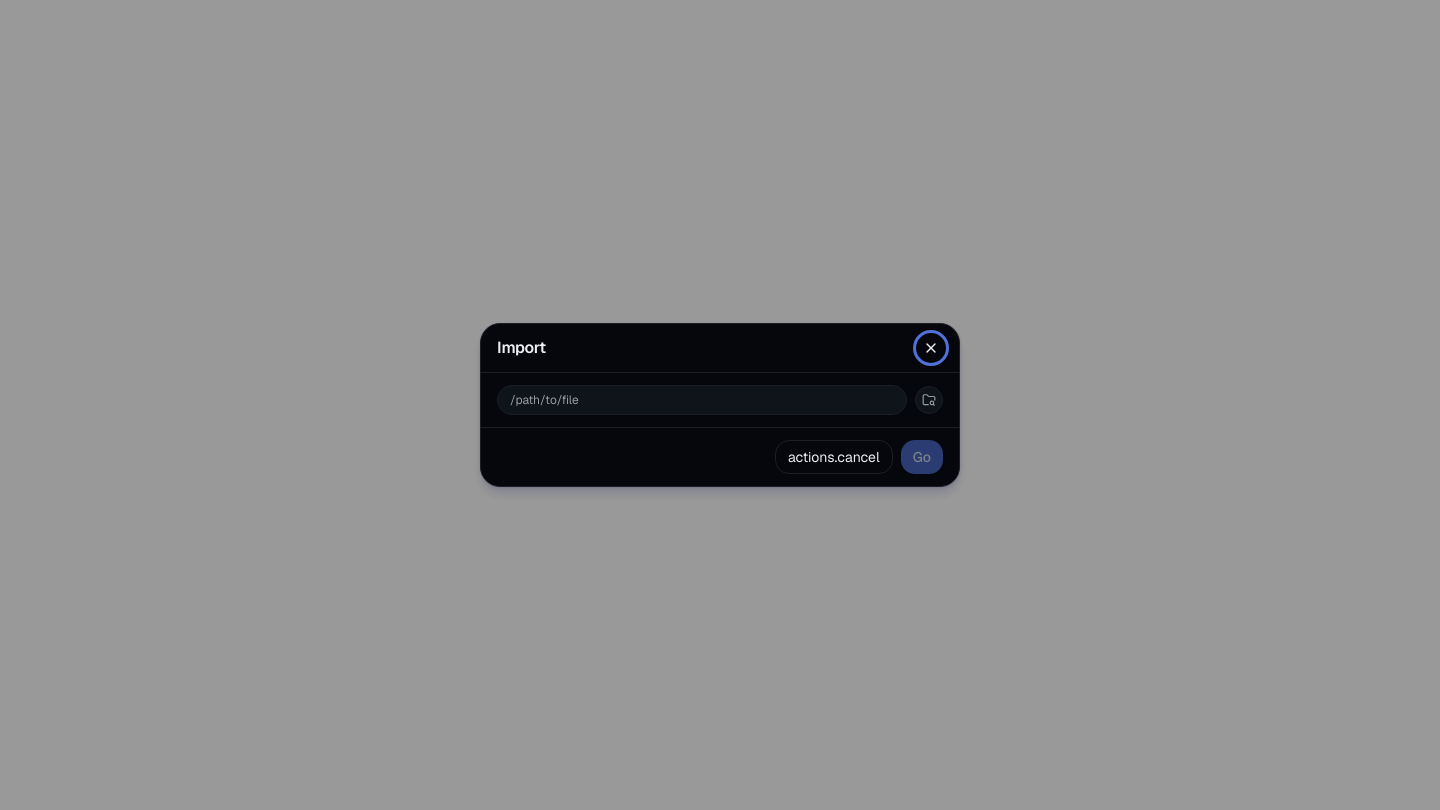
PathInputDialog › submit button disabled until input has content
Expected: the button "Go" is disabled, [901, 440, 943, 474]
In the field: (702, 400) [497, 385, 907, 415], type "/some/path"
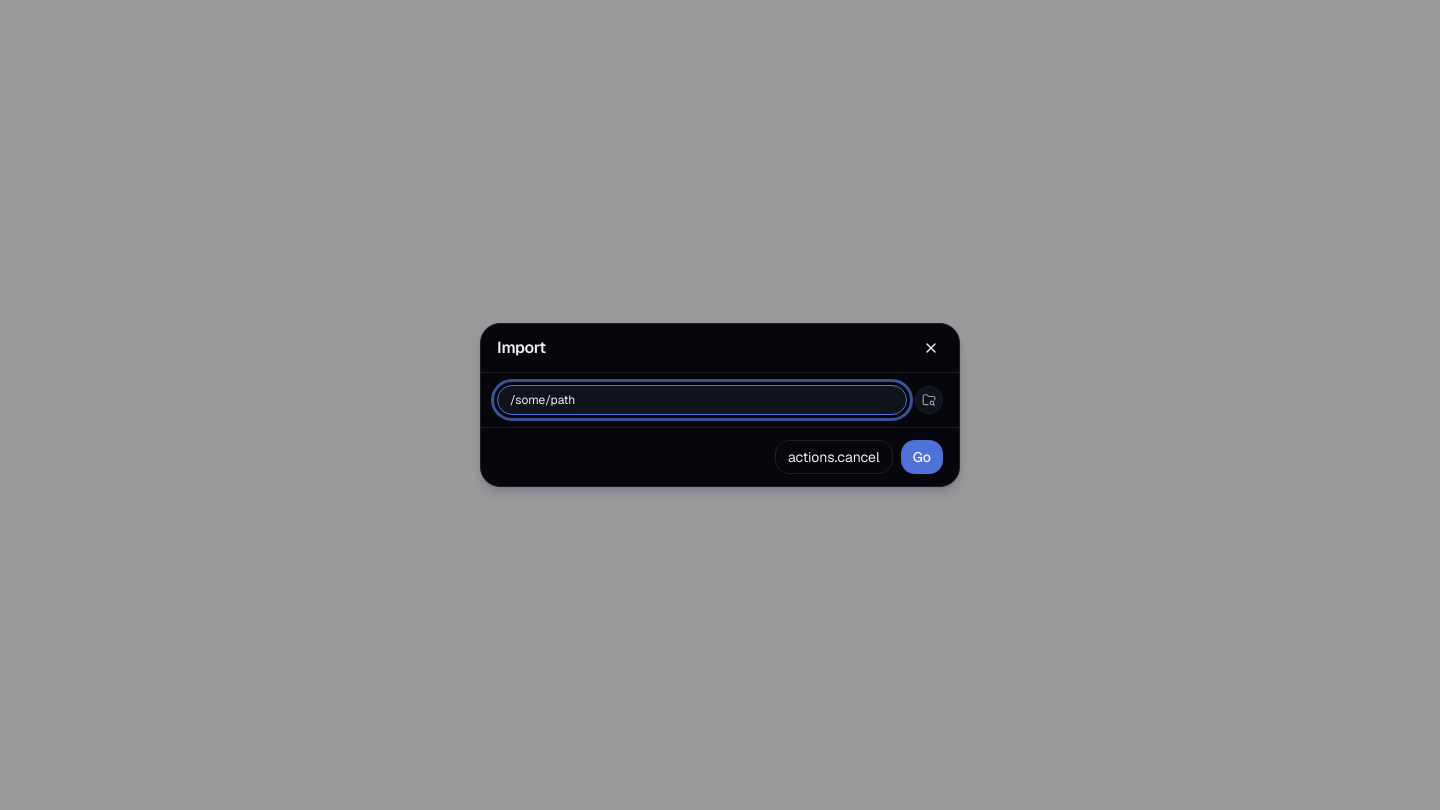
Now the button "Go" is enabled, box [901, 440, 943, 474]
